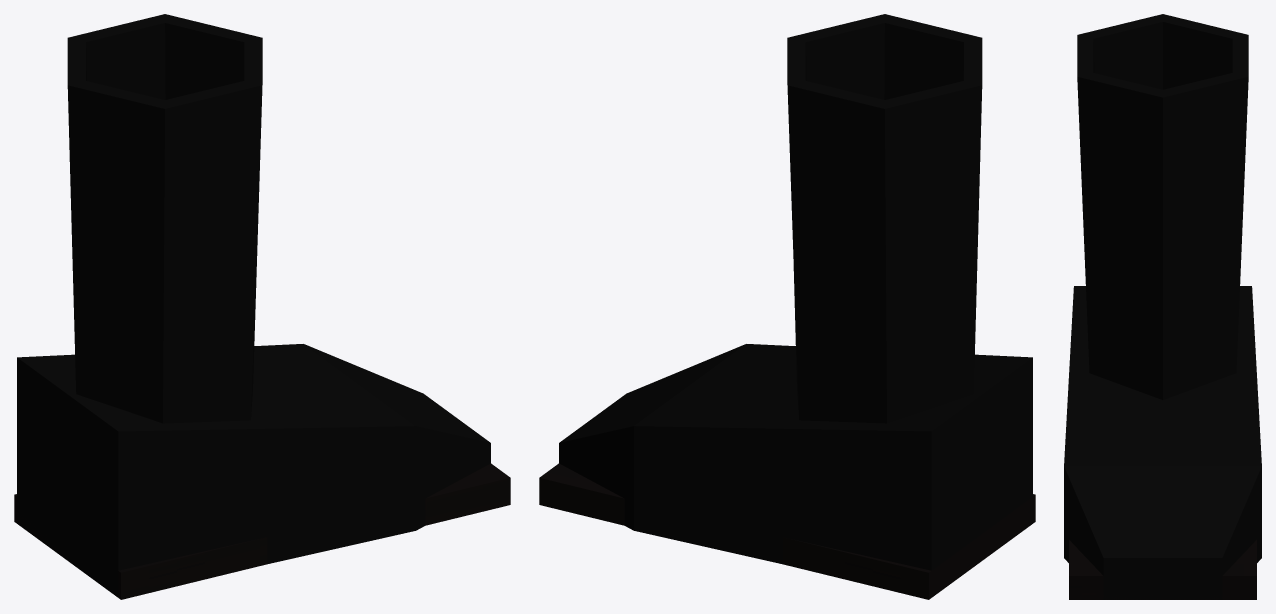
Rendered from culto.glb.
3 renders of one model, left to right at view 1: azimuth 30°, elevation 25°; view 2: azimuth 150°, elevation 25°; view 3: azimuth 270°, elevation 25°, orthographic. The views are drawn at different scales.
Parts seen in each view (by area): view 1: pie, cana, suela; view 2: cana, pie, suela; view 3: cana, pie, suela.
Part boxes in pixels (left/top/right/bottom): pie: left=17, top=344, right=490, bottom=597; cana: left=67, top=14, right=262, bottom=423; suela: left=14, top=463, right=510, bottom=599; cana: left=787, top=14, right=982, bottom=423; pie: left=559, top=344, right=1032, bottom=570; suela: left=539, top=463, right=1035, bottom=599; cana: left=1077, top=14, right=1248, bottom=399; pie: left=1064, top=286, right=1261, bottom=599; suela: left=1069, top=540, right=1256, bottom=599.
Bounding box in the file's own units: 0.3 × 0.35 × 0.15.
Materials: 1 (1 with a texture image).
